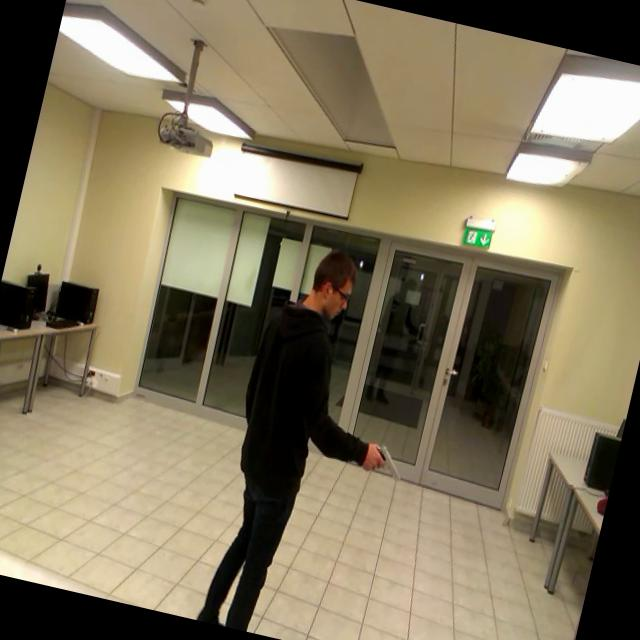handgun: (363, 430, 412, 490)
